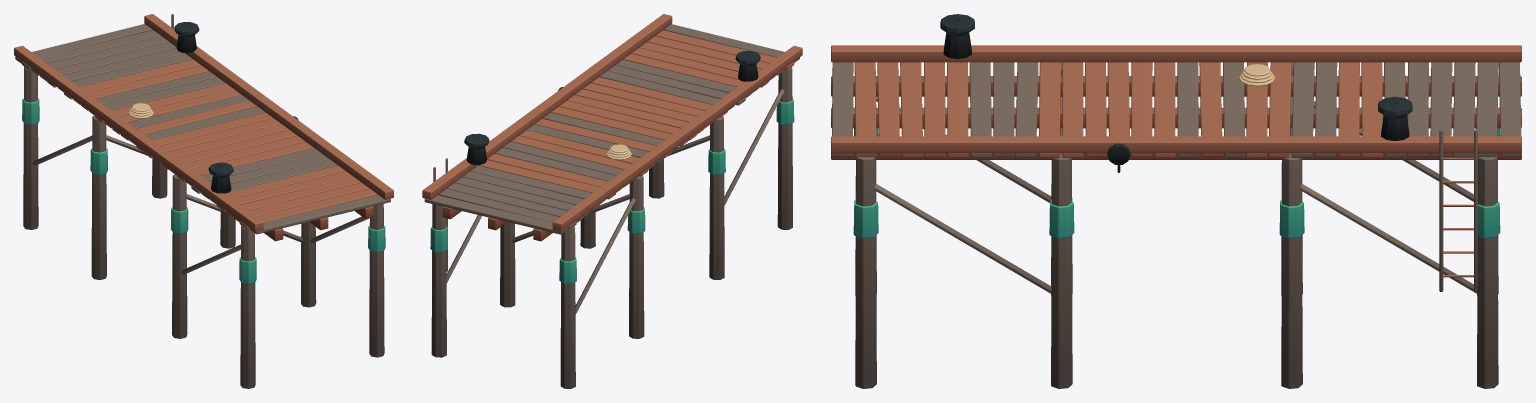
Rendered from harbor_pier.glb.
3 views of the same model, side by side, from view 1: azimuth 30°, elevation 25°; view 2: azimuth 150°, elevation 25°; view 3: azimuth 270°, elevation 25° (orthographic). The views are drawn at different scales.
Parts seen in each view (by area): view 1: harbor_pier; view 2: harbor_pier; view 3: harbor_pier.
Boxes of the visible parts, x1,y1,x2,y2 form: harbor_pier: [14, 14, 393, 388]; harbor_pier: [422, 14, 802, 388]; harbor_pier: [831, 14, 1521, 388].
Size of the model in its own units: 4.2 by 5.34 by 12.
Materials: 1 (1 with a texture image).
